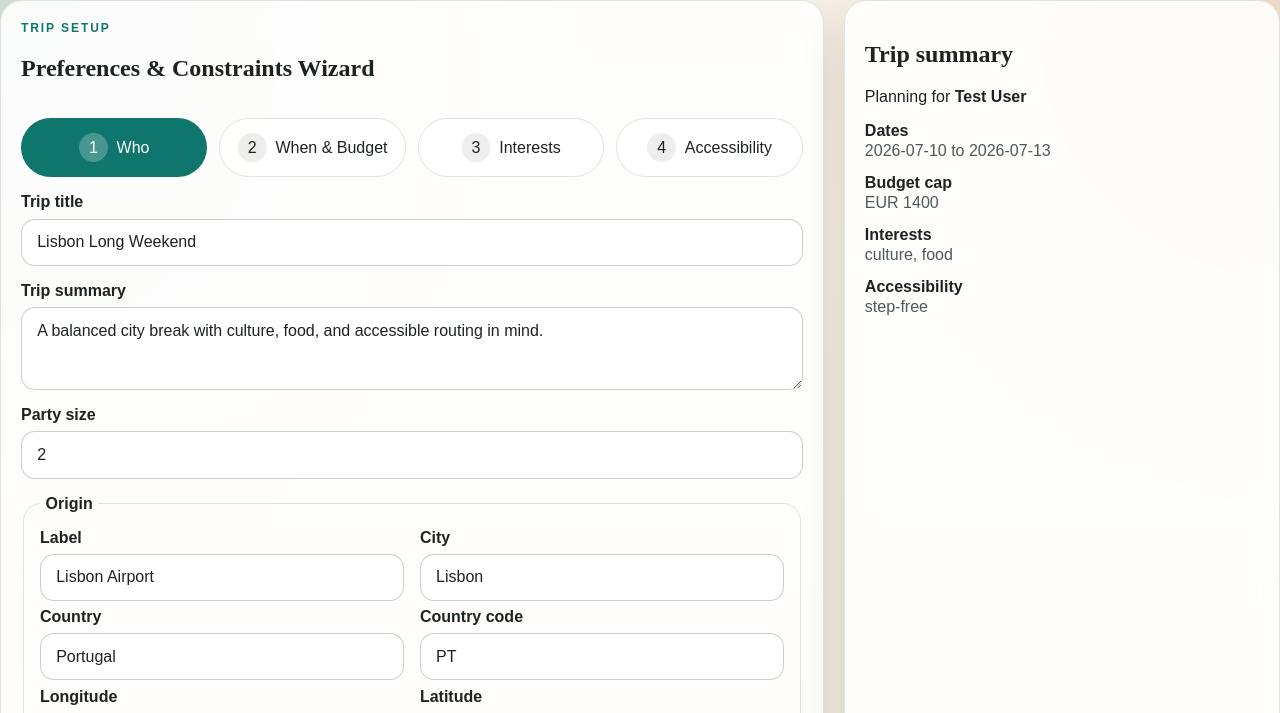
Test: PlanTripPage wizard – step navigation › jumps directly to a step when its stepper button is clicked
Click the button "3 Interests".
click(511, 148)  # box [418,118,604,177]
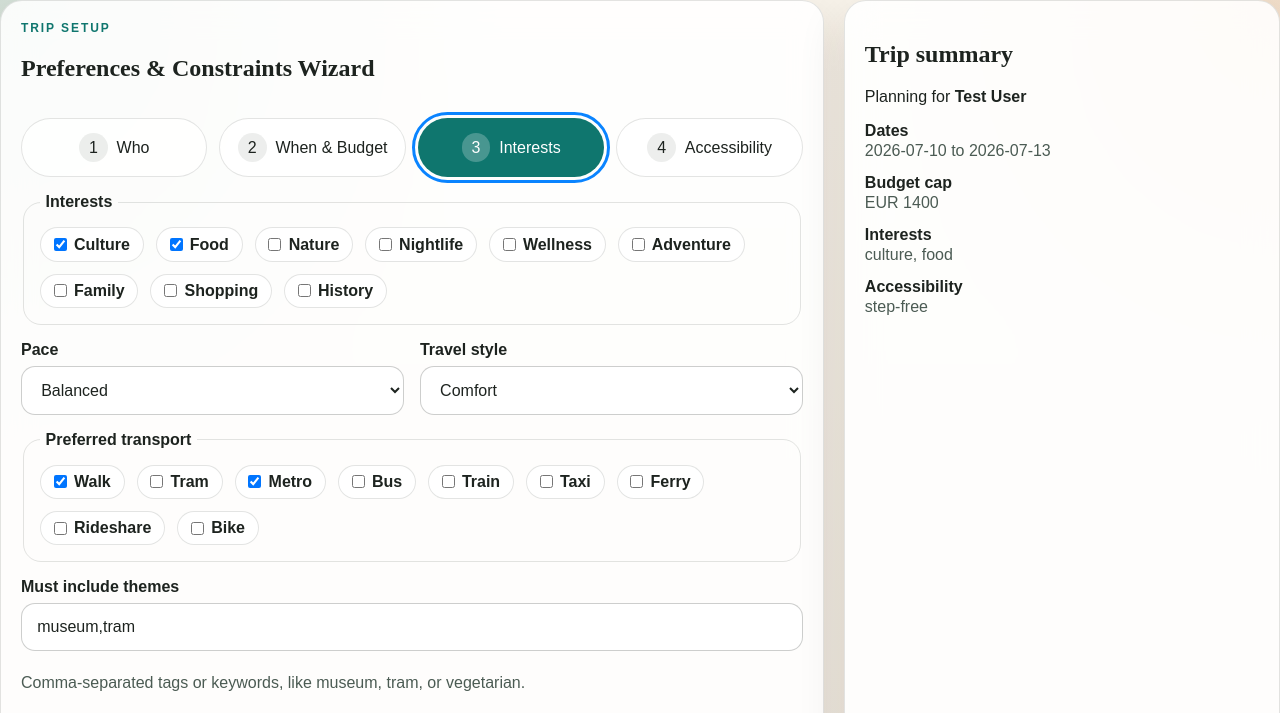
Expected: the text "Interests" below "Preferences & Constraints Wizard" is shown, [46,193,112,210]
